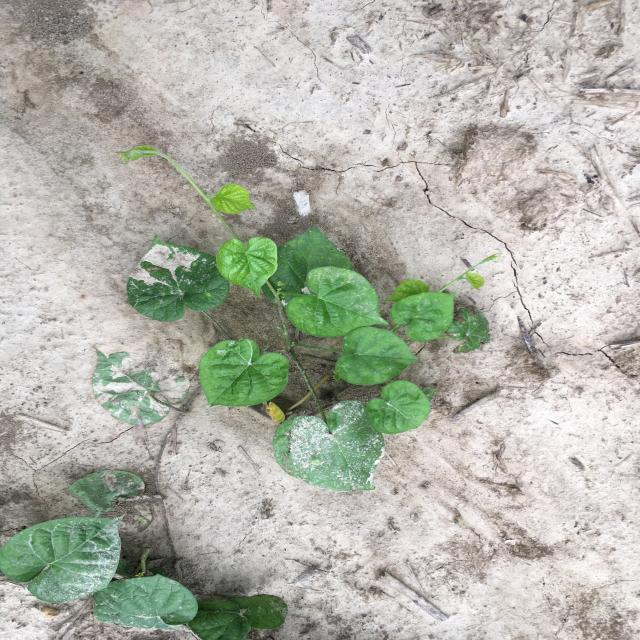MorningGlory: (114, 145, 501, 492), (0, 469, 287, 640)
